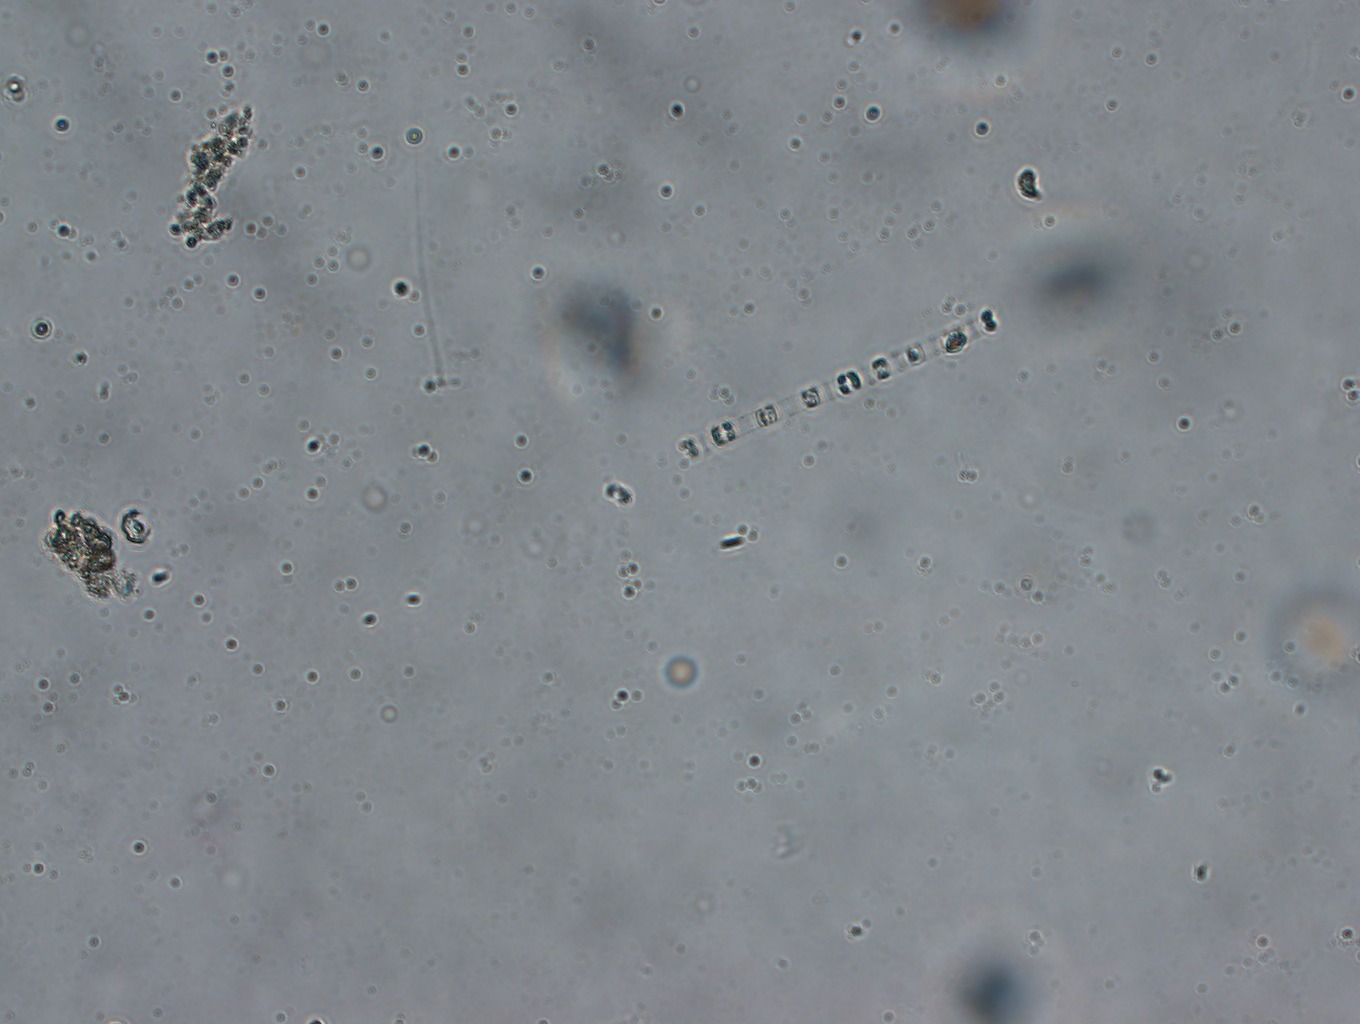skeletonema: (670, 307, 1008, 466)
